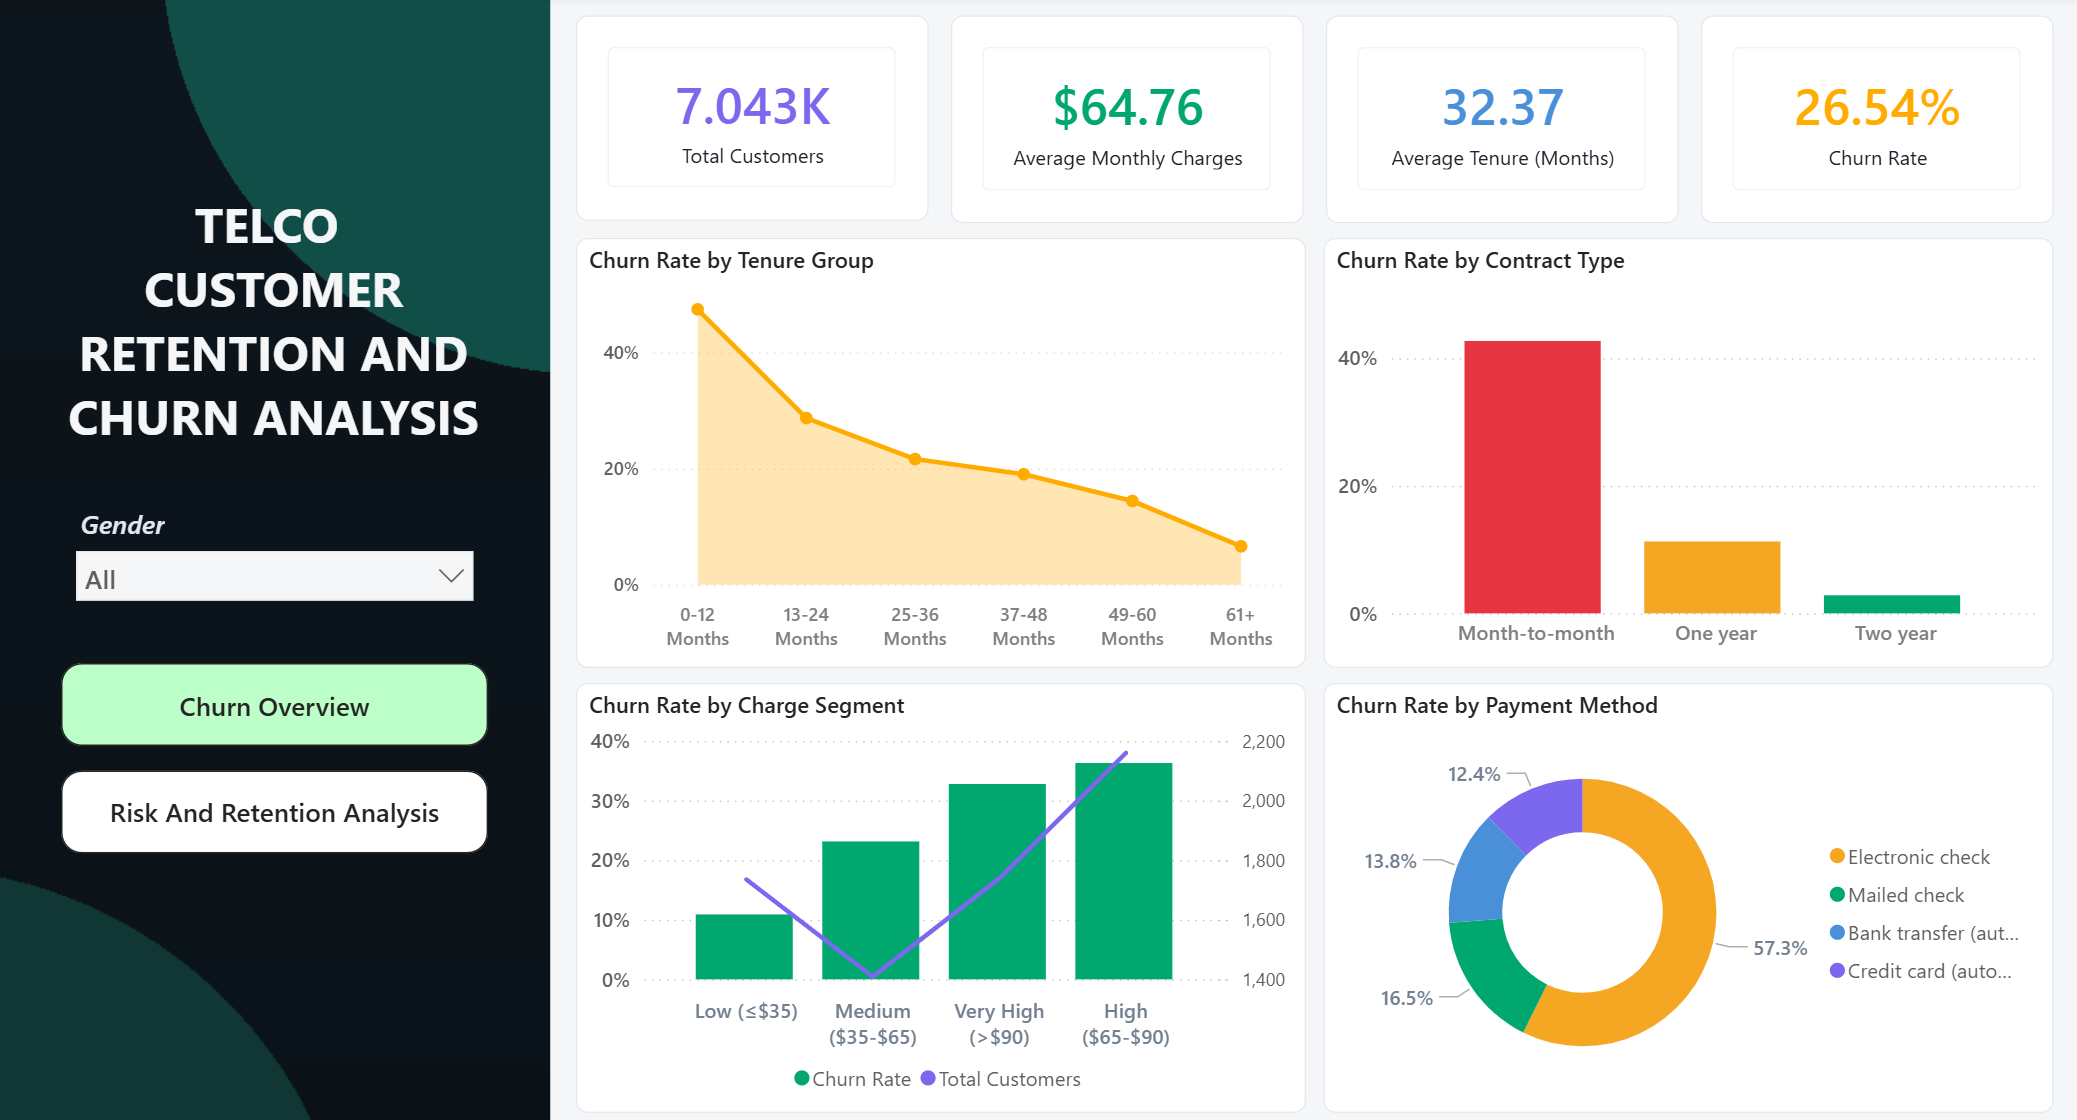

The dashboard page shown, as its layout file describes it:
{"tool":"powerbi","page":{"name":"Churn Overview","canvas":[1380,750],"ordinal":0},"visuals":[{"type":"cardVisual","fields":{"Data":["Avg(telco_churn_clean.tenure)"]},"box":[881,14.9,233.5,137.5],"z":0},{"type":"cardVisual","fields":{"Data":["Avg(telco_churn_clean.MonthlyCharges)"]},"box":[633,14.9,233.5,137.5],"z":1000},{"type":"cardVisual","fields":{"Data":["telco_churn_clean.Churn Rate"]},"box":[1129.6,14.9,233.5,137.5],"z":2000},{"type":"donutChart","title":"Churn Rate by Payment Method","fields":{"Category":["telco_churn_clean.PaymentMethod"],"Y":["telco_churn_clean.Churned Customers1"]},"box":[879.5,457.2,483.7,284.9],"z":3000},{"type":"cardVisual","fields":{"Data":["Count(telco_churn_clean.customerID)"]},"box":[383.9,12.6,234,138.5],"z":5000},{"type":"clusteredColumnChart","title":"Churn Rate by Contract Type","fields":{"Category":["telco_churn_clean.Contract"],"Y":["telco_churn_clean.Churn Rate"]},"box":[879.5,162.3,483.7,284.9],"z":6000},{"type":"lineStackedColumnComboChart","title":"Churn Rate by Charge Segment","fields":{"Category":["telco_churn_clean.Charge_Segment"],"Y":["telco_churn_clean.Churn Rate"],"Y2":["Count(telco_churn_clean.customerID)"]},"box":[384.3,457.2,483.7,284.9],"z":9000},{"type":"image","box":[0,0,367.2,950.4],"z":9500},{"type":"pageNavigator","box":[43.1,443.9,283.2,127.5],"z":10000},{"type":"lineChart","fields":{"Category":["telco_churn_clean.Tenure_Group"],"Y":["telco_churn_clean.Churn Rate"]},"box":[384.3,162,483.7,284.9],"z":12000},{"type":"textbox","box":[0,125.9,367.7,248.5],"z":12500},{"type":"slicer","fields":{"Values":["telco_churn_clean.gender"]},"box":[43.1,334.6,283.2,79.5],"z":13000}]}

Visuals, with their boxes in screenshot pixels (x1, y1, x2, y2), scaled from the page's 1380x750 canvas onto the 2077x1120 screenshot:
cardVisual - Avg(telco_churn_clean.tenure): detection(1326, 22, 1677, 228)
cardVisual - Avg(telco_churn_clean.MonthlyCharges): detection(953, 22, 1304, 228)
cardVisual - telco_churn_clean.Churn Rate: detection(1700, 22, 2052, 228)
"Churn Rate by Payment Method" donutChart: detection(1324, 683, 2052, 1108)
cardVisual - Count(telco_churn_clean.customerID): detection(578, 19, 930, 226)
"Churn Rate by Contract Type" clusteredColumnChart: detection(1324, 242, 2052, 668)
"Churn Rate by Charge Segment" lineStackedColumnComboChart: detection(578, 683, 1306, 1108)
image: detection(0, 0, 553, 1119)
pageNavigator: detection(65, 663, 491, 853)
lineChart - telco_churn_clean.Tenure_Group x telco_churn_clean.Churn Rate: detection(578, 242, 1306, 667)
textbox: detection(0, 188, 553, 559)
slicer - telco_churn_clean.gender: detection(65, 500, 491, 618)
